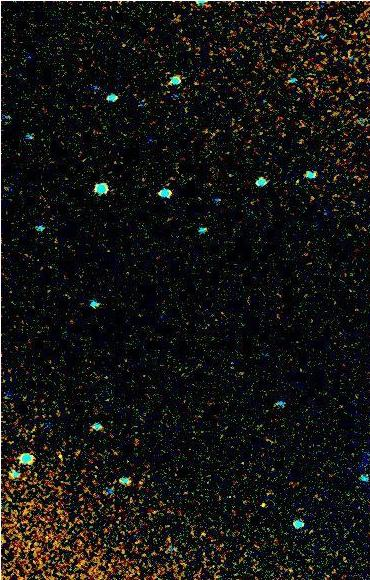star: (246, 488, 276, 518)
